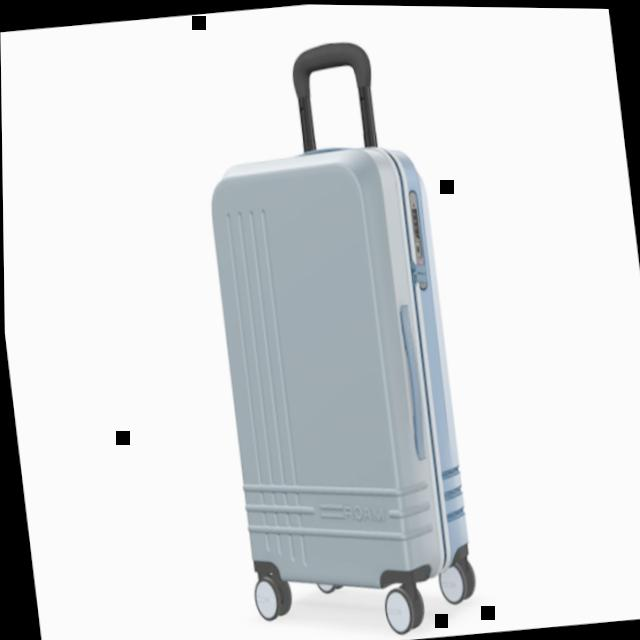luggage: (193, 129, 481, 609)
